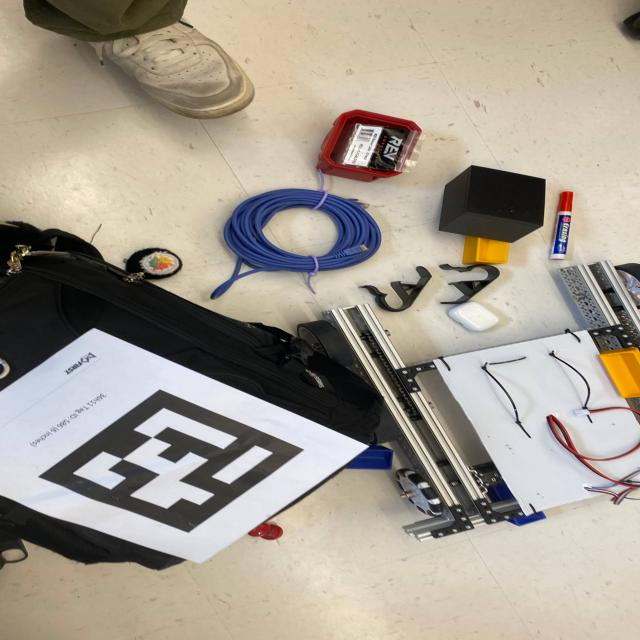blue-specimen: (346, 446, 393, 470), (507, 511, 546, 526), (488, 482, 514, 502)
yellow-specimen: (599, 347, 640, 399), (461, 236, 510, 264)
